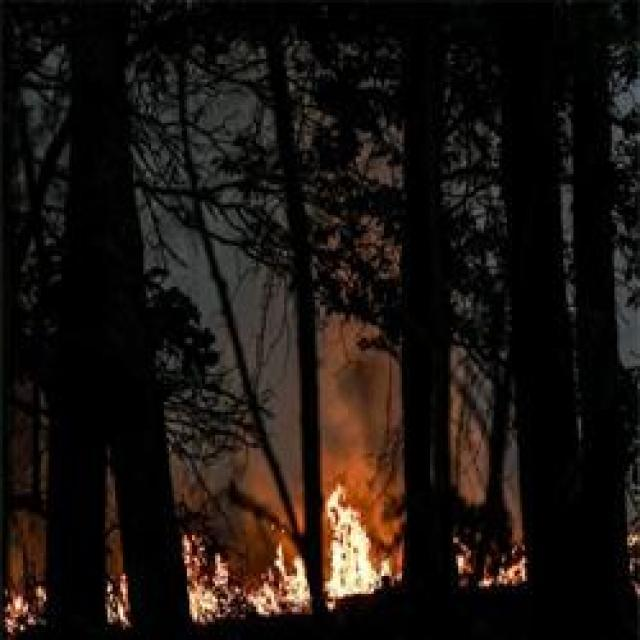Fire: (408, 504, 554, 594), (0, 528, 88, 632), (169, 534, 257, 616), (246, 538, 310, 614), (328, 506, 381, 597), (104, 462, 128, 634)
Smoke: (284, 280, 430, 463)
